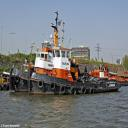tugboat: (29, 42, 122, 98)
